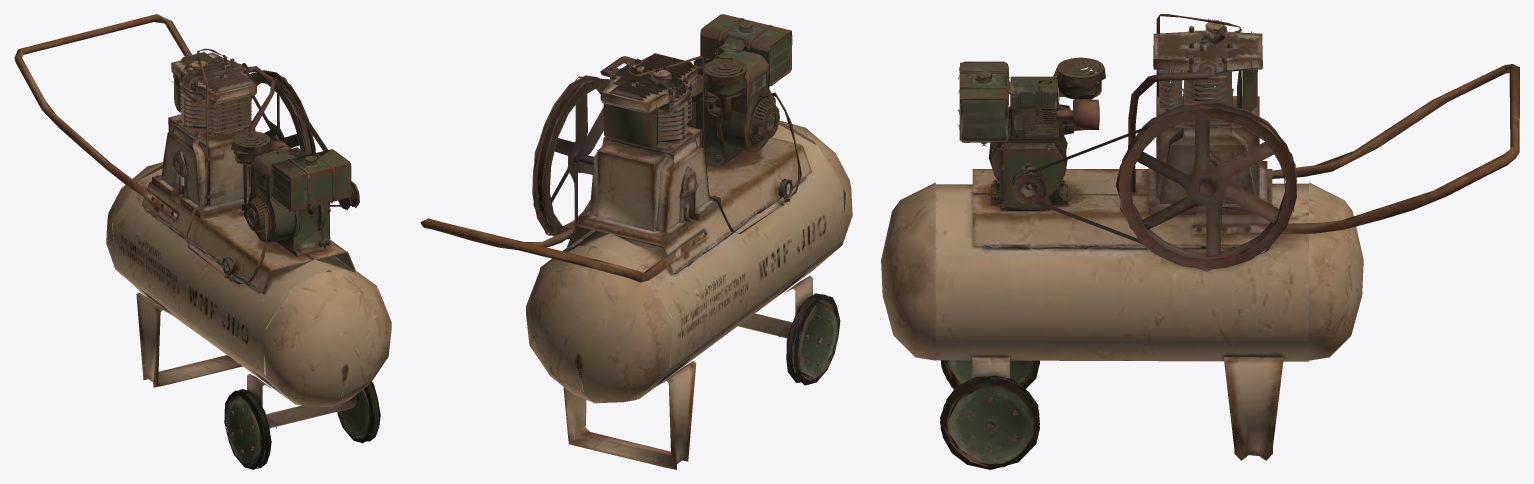
File: old_military_compressor.glb
The picture shows the model from 3 angles, left to right: view 1: azimuth 30°, elevation 25°; view 2: azimuth 150°, elevation 25°; view 3: azimuth 270°, elevation 25°; orthographic projection. The views are drawn at different scales.
Parts seen in each view (by area): view 1: old_military_compressor; view 2: old_military_compressor; view 3: old_military_compressor.
Boxes of the visible parts, x1=… form: old_military_compressor: x1=14, y1=14, x2=391, y2=469; old_military_compressor: x1=420, y1=14, x2=852, y2=469; old_military_compressor: x1=881, y1=14, x2=1519, y2=469.
Size of the model in its own units: 0.5967 by 1.18 by 1.67.
Materials: 2 (2 with a texture image).
